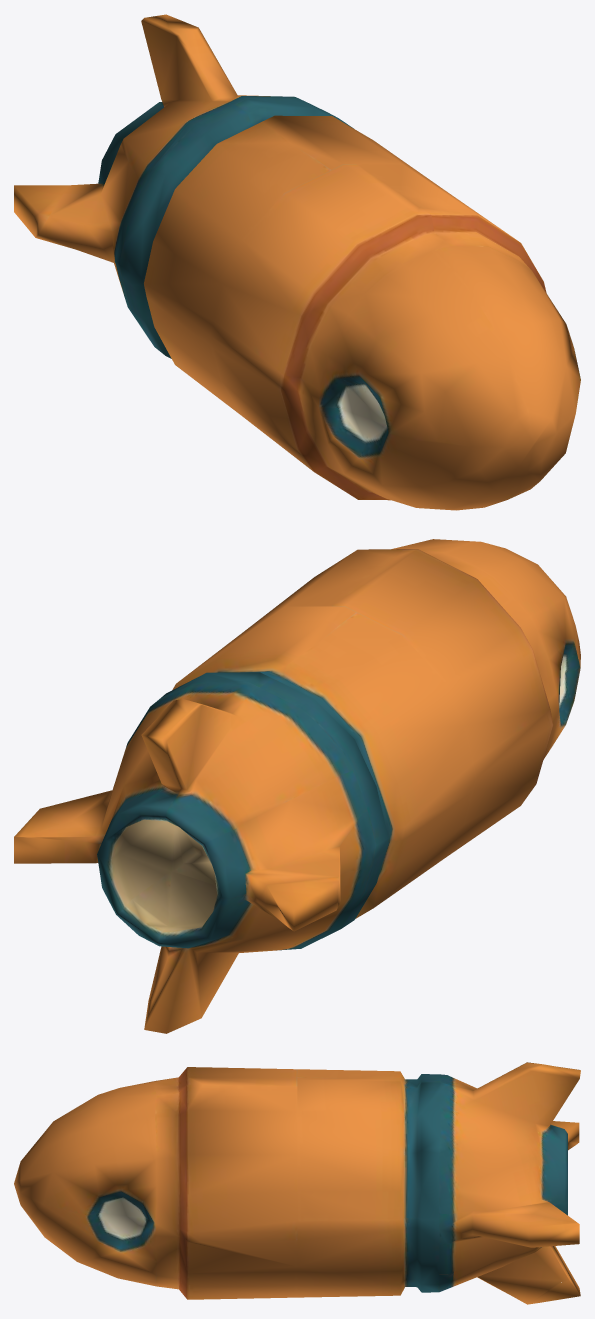
The model's file is m3d_perno-g1.glb.
The picture shows the model from 3 angles, top to bottom: view 1: azimuth 30°, elevation 25°; view 2: azimuth 150°, elevation 25°; view 3: azimuth 270°, elevation 25°; orthographic projection. The views are drawn at different scales.
Visible parts, largest first — view 1: tripo_node_3957600d-539e-4d2d-9e2e-77eb845121bc; view 2: tripo_node_3957600d-539e-4d2d-9e2e-77eb845121bc; view 3: tripo_node_3957600d-539e-4d2d-9e2e-77eb845121bc.
Part boxes in pixels (box(x1,y1,x2,y2)): tripo_node_3957600d-539e-4d2d-9e2e-77eb845121bc: box(14, 14, 580, 510); tripo_node_3957600d-539e-4d2d-9e2e-77eb845121bc: box(14, 539, 580, 1033); tripo_node_3957600d-539e-4d2d-9e2e-77eb845121bc: box(14, 1062, 580, 1304).
Bounding box in the file's own units: 0.4571 × 0.4555 × 0.9982.
1 material, 1 textured.
